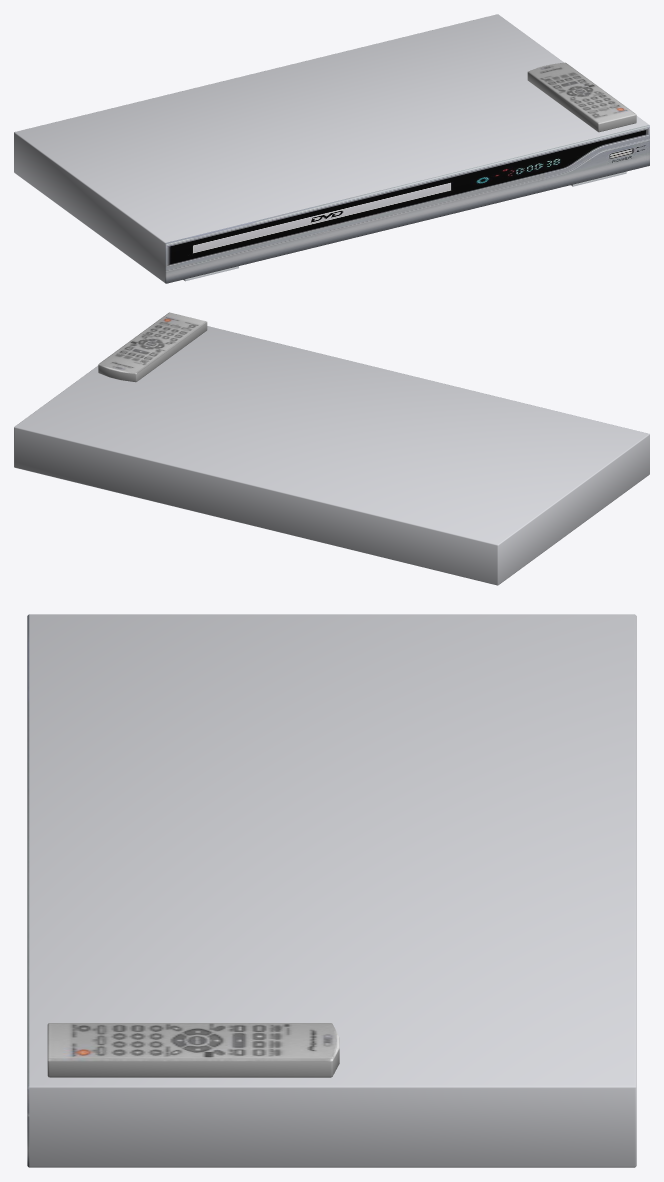
File: DVD_Player.fbx
3 renders of one model, top to bottom at view 1: azimuth 30°, elevation 25°; view 2: azimuth 150°, elevation 25°; view 3: azimuth 270°, elevation 25°, orthographic. The views are drawn at different scales.
Visible parts, largest first — view 1: DVD, Controller; view 2: DVD, Controller; view 3: DVD, Controller.
Part boxes in pixels (x1,y1,x2,y2): DVD: (14, 14, 649, 283); Controller: (527, 62, 636, 132); DVD: (14, 326, 649, 585); Controller: (98, 312, 207, 382); DVD: (27, 614, 636, 1167); Controller: (47, 1023, 339, 1077).
Bounding box in the file's own units: 0.548 × 0.0578 × 0.2983.
